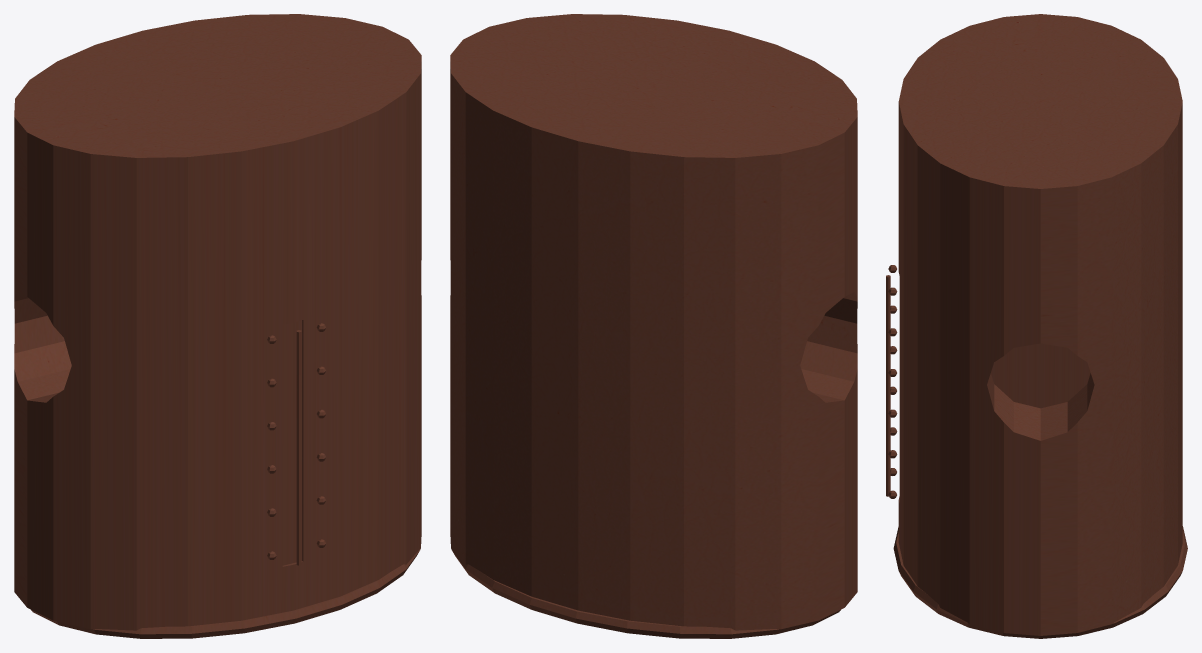
Rendered from leather_vest.glb.
3 renders of one model, left to right at view 1: azimuth 30°, elevation 25°; view 2: azimuth 150°, elevation 25°; view 3: azimuth 270°, elevation 25°, orthographic. The views are drawn at different scales.
Visible parts, largest first — view 1: leather_vest; view 2: leather_vest; view 3: leather_vest.
Boxes of the visible parts, left/top/right/bottom form: leather_vest: left=14, top=14, right=421, bottom=638; leather_vest: left=450, top=14, right=857, bottom=638; leather_vest: left=886, top=14, right=1187, bottom=638.
Bounding box in the file's own units: 0.462 × 0.5569 × 0.3368.
Materials: 1 (1 with a texture image).
